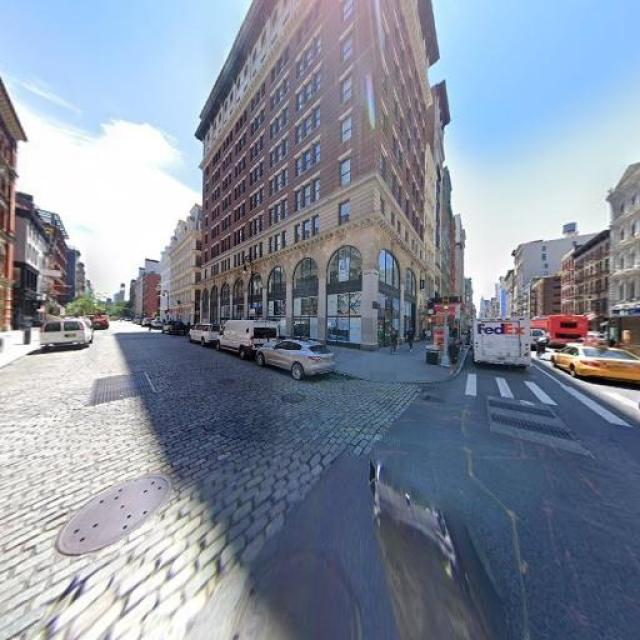Building: (207, 1, 444, 353), (1, 65, 29, 344)
